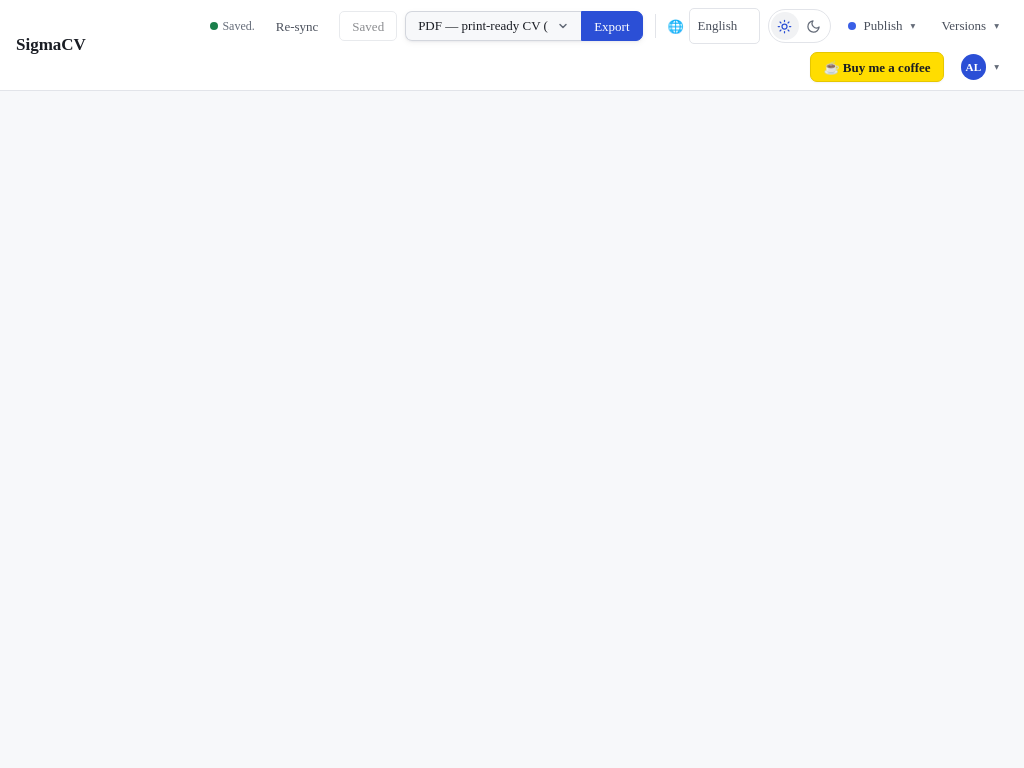
TopBar (restructured editor top bar) › opens the account menu as a dialog with sign out + delete account inside
Click the button with class "account-trigger".
click(980, 67)  # box [952, 52, 1008, 82]
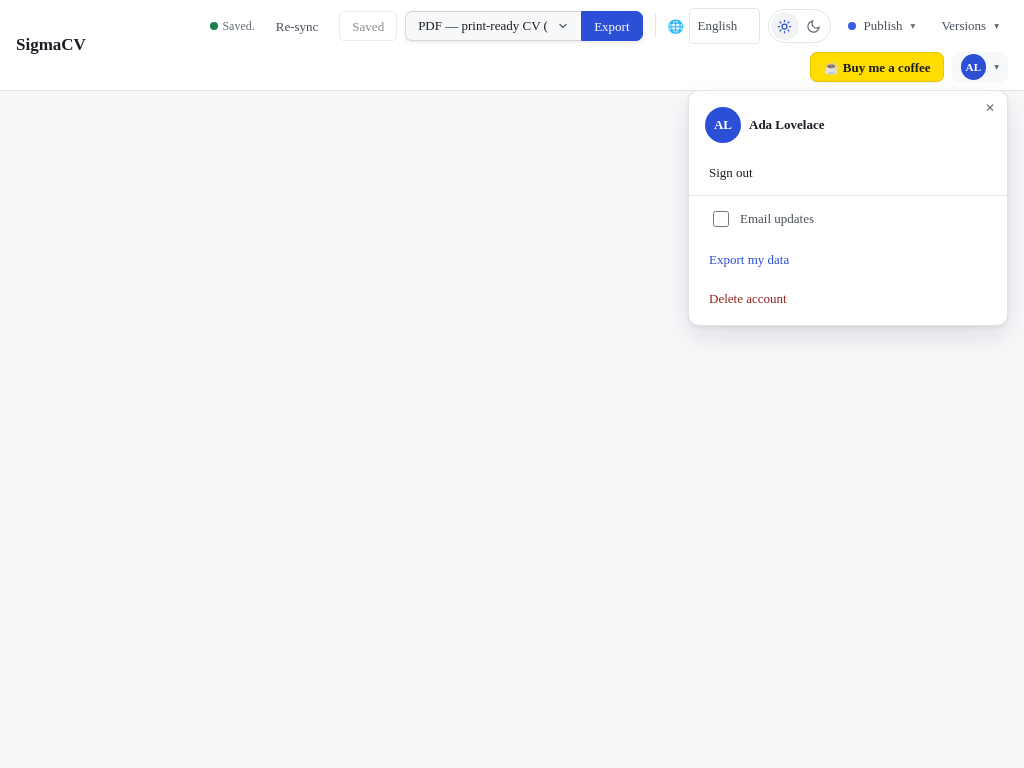
Result: the dialog is shown at [688, 90, 1008, 326]
Result: the button "Sign out" is shown at [697, 155, 999, 190]
Result: the button "Delete account" is shown at [697, 281, 999, 316]
